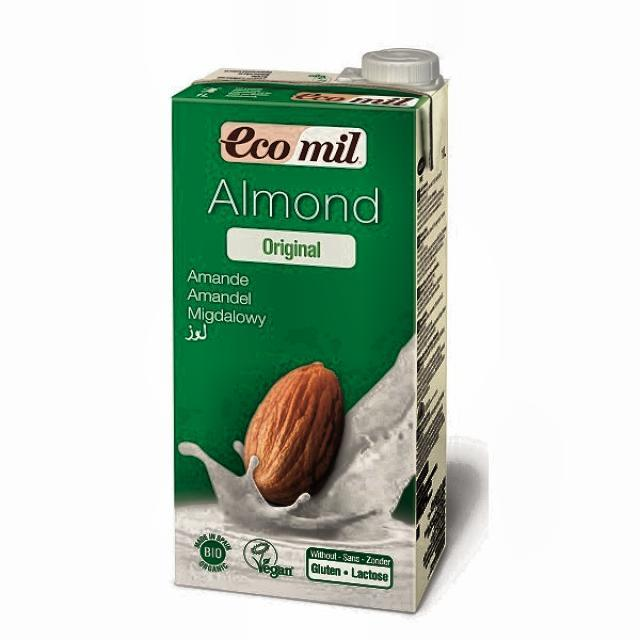cardboard: (170, 58, 450, 612)
